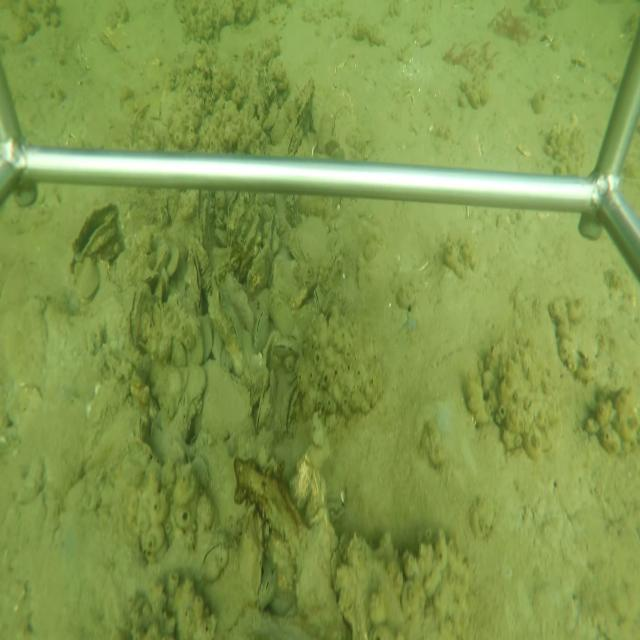Oyster-Closed: (208, 269, 248, 377), (283, 74, 316, 157), (182, 236, 205, 317), (330, 105, 360, 152)
Oyster-Open: (68, 202, 125, 264), (282, 378, 303, 439)
